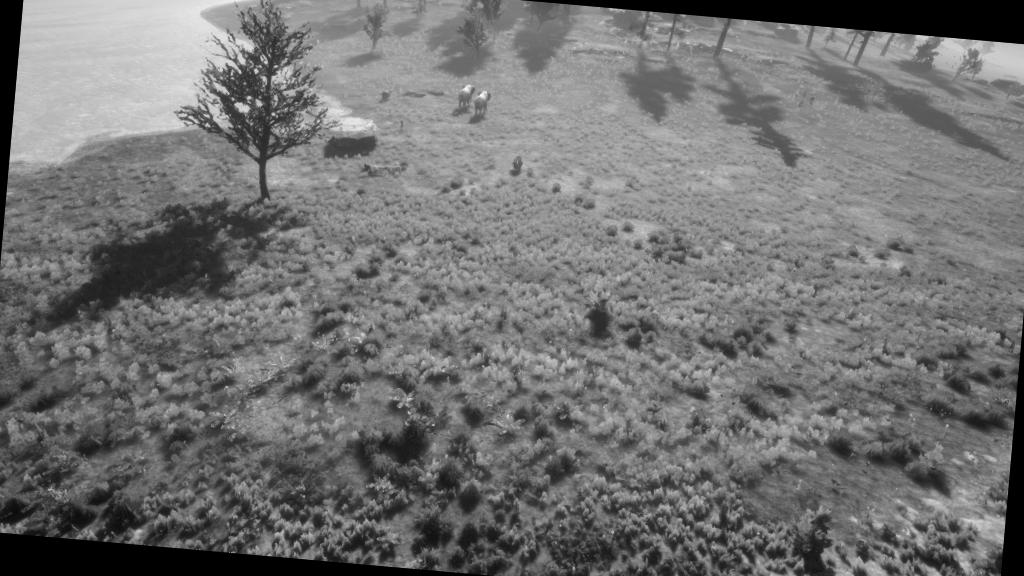Fire: (288, 90, 322, 122), (636, 34, 650, 51), (668, 38, 682, 53)
elephant: (454, 82, 476, 110), (471, 88, 492, 116), (378, 88, 394, 103)
human: (398, 117, 406, 131)
